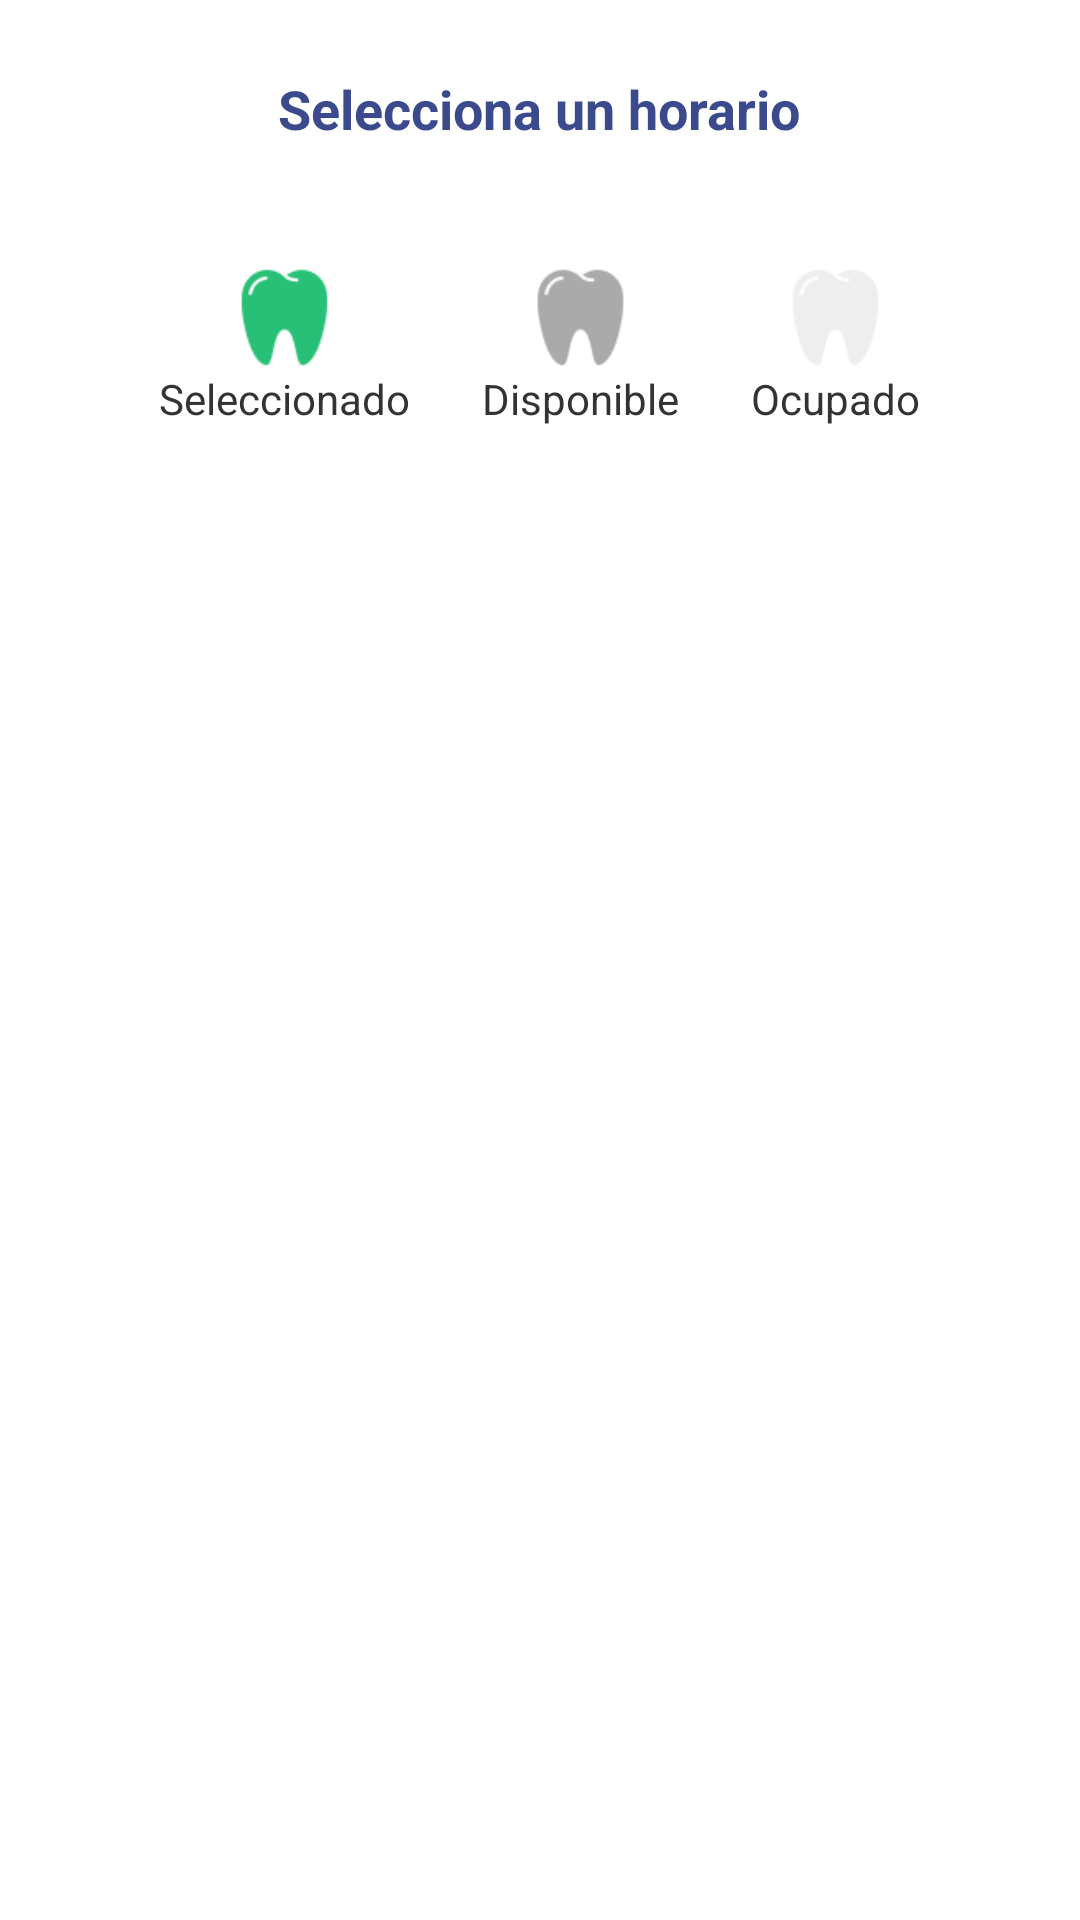

Where to tap for icons on this 1080 × 1920 app screen, as (x,y):
graytooth: (580,317)
greentooth: (284,317)
